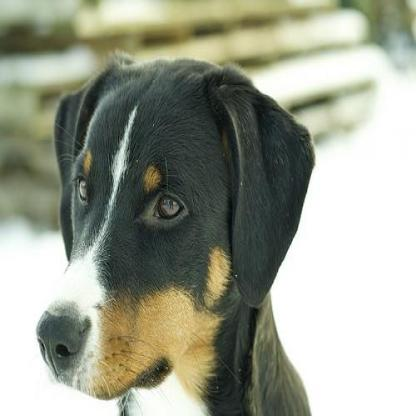Appenzeller: (35, 51, 314, 414)
